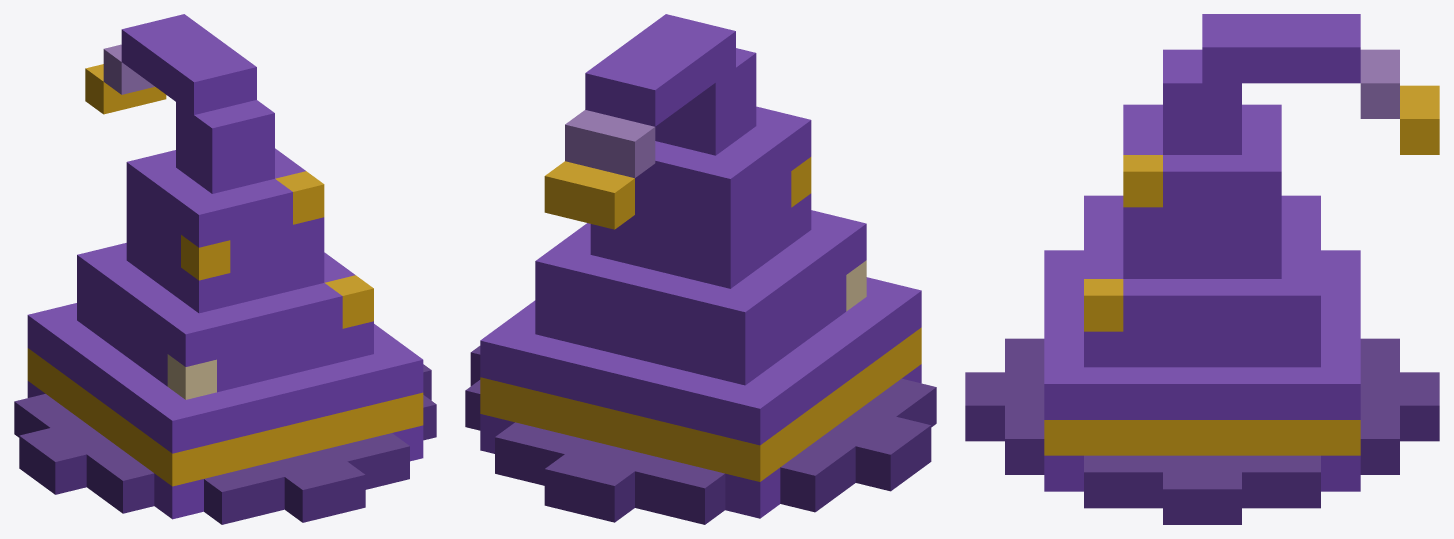
The model's file is Mage_Hat.glb.
3 renders of one model, left to right at view 1: azimuth 30°, elevation 25°; view 2: azimuth 150°, elevation 25°; view 3: azimuth 270°, elevation 25°, orthographic. The views are drawn at different scales.
Visible parts, largest first — view 1: Mage_Hat; view 2: Mage_Hat; view 3: Mage_Hat.
Boxes of the visible parts, left/top/right/bottom form: Mage_Hat: left=14, top=14, right=436, bottom=524; Mage_Hat: left=465, top=14, right=936, bottom=524; Mage_Hat: left=965, top=14, right=1439, bottom=524.
Bounding box in the file's own units: 3 × 2.75 × 3.
